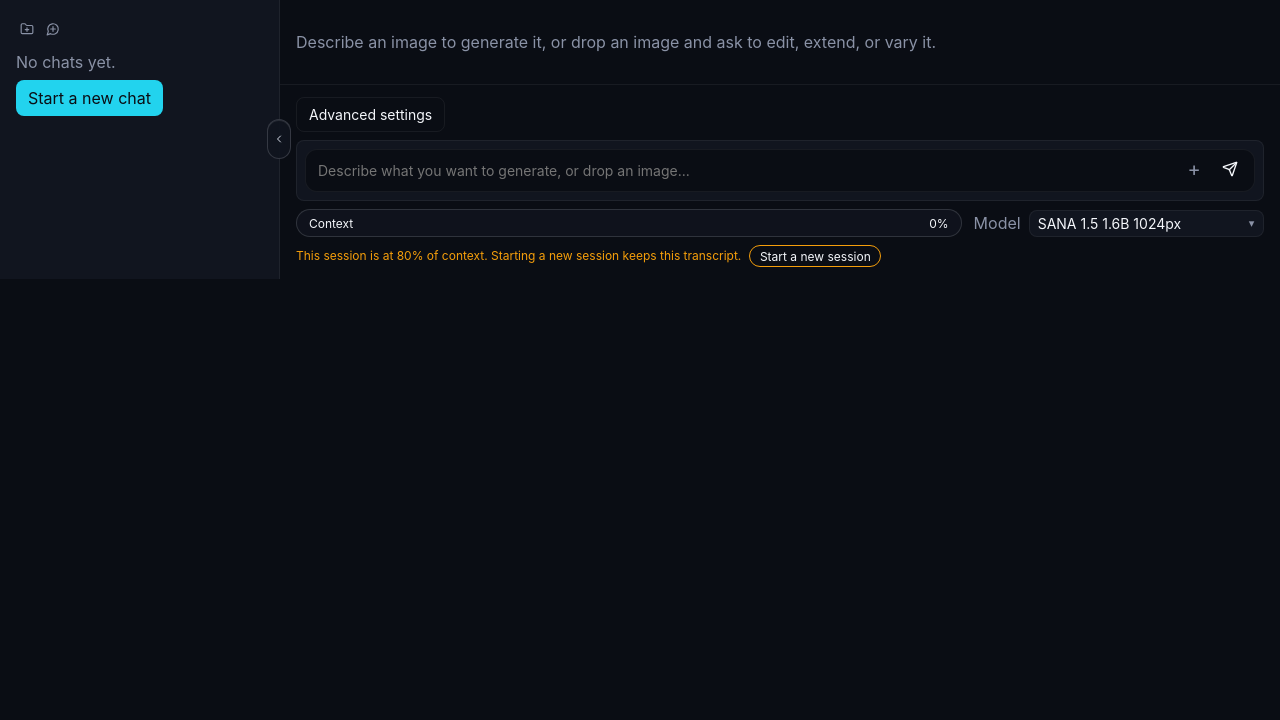
it: ImageStudioPage (chat) › shows the shaping orb while a generation is pending
Type "a fox" into the text box with test id "media-composer-textarea". click: (780, 170)
box: [306,150,1254,191]
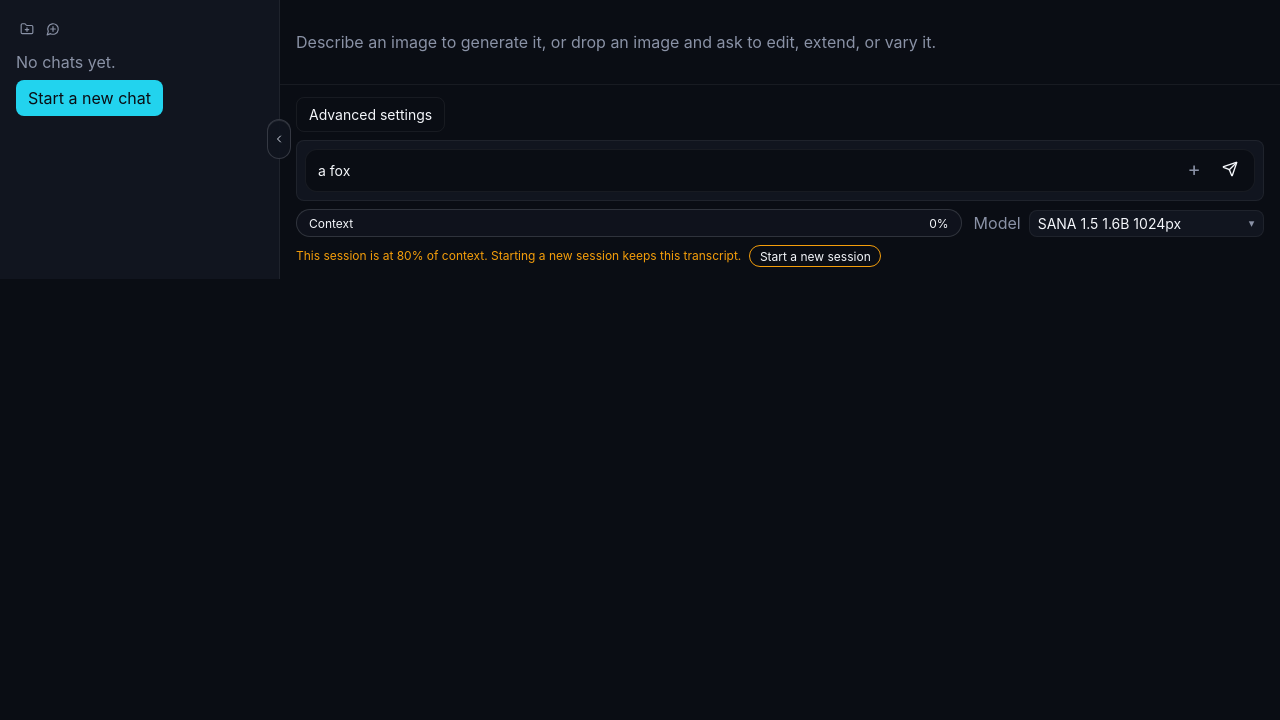
Click the button with test id "media-composer-submit". click: (1230, 169)
box: [1214,153,1246,185]
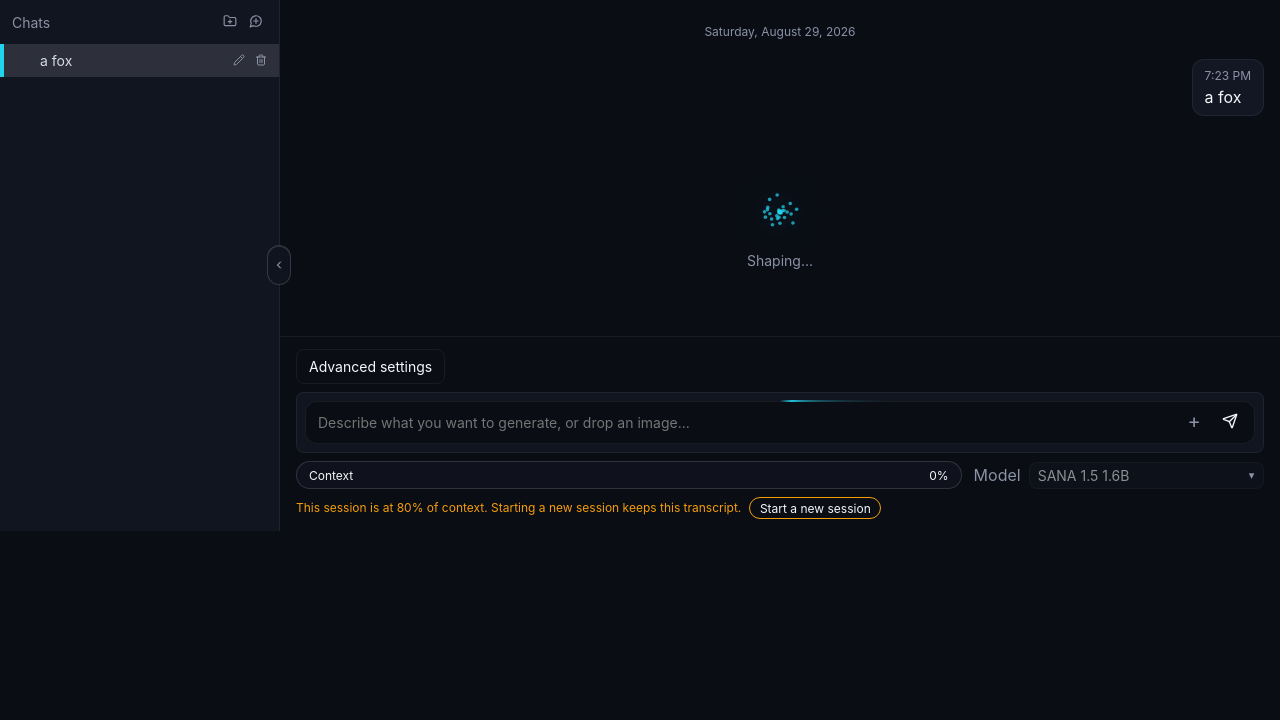
Expected: the text "Shaping..." is shown, [747,252,813,268]
